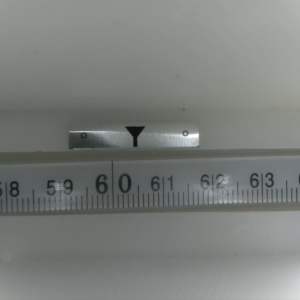0: (117, 173, 131, 193)
1: (166, 175, 173, 191)
2: (214, 174, 224, 188)
3: (264, 172, 274, 187)
5: (46, 179, 57, 195)
6: (94, 173, 108, 194), (149, 175, 159, 191), (248, 173, 258, 188), (198, 174, 208, 188)
8: (9, 180, 20, 197)
9: (62, 179, 73, 194)
finger: (122, 126, 145, 148)
